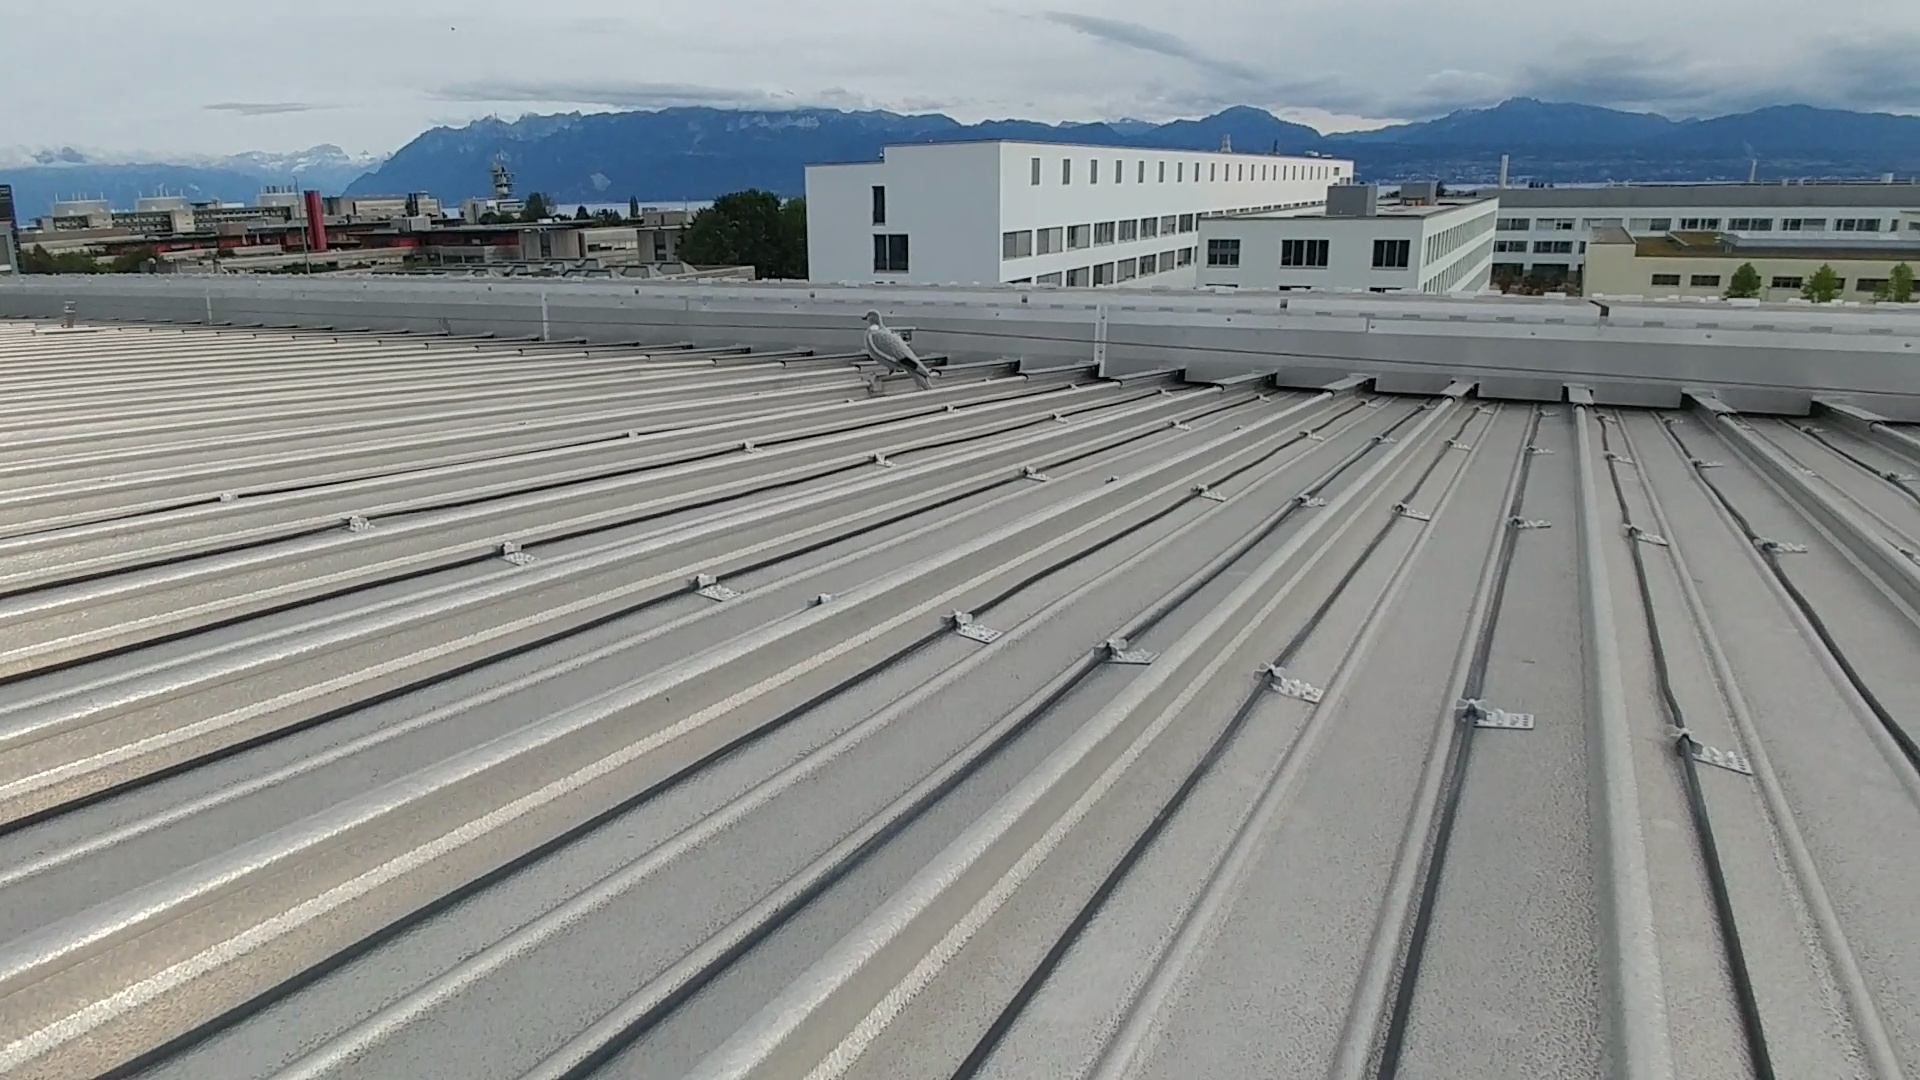Pigeon: (852, 309, 942, 385)
